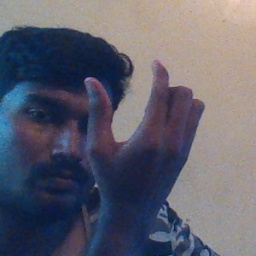U: (82, 54, 205, 200)
